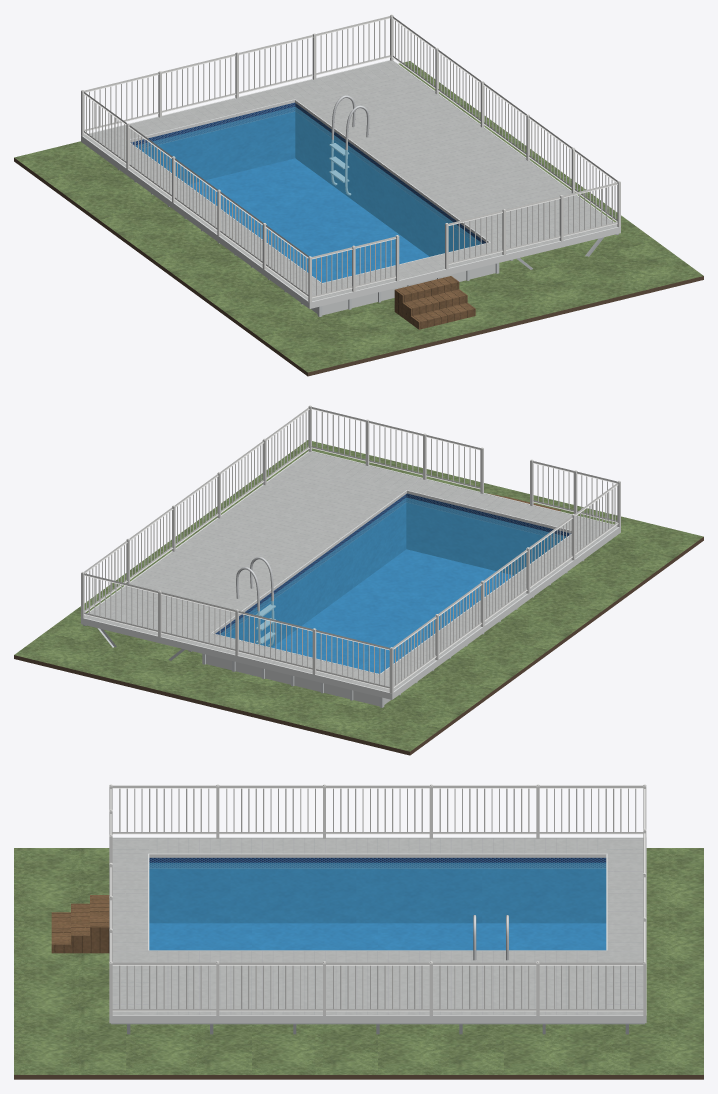
File: kayak-pool-12x24-white-side-rec-fence.dd6c0c929a.glb
3 renders of one model, top to bottom at view 1: azimuth 30°, elevation 25°; view 2: azimuth 150°, elevation 25°; view 3: azimuth 270°, elevation 25°, orthographic. The views are drawn at different scales.
Visible parts, largest first — view 1: ground, deck, water, fence, liner_wall, liner_floor, fascia, soil, steps, wall, steel; view 2: ground, deck, water, fence, liner_wall, liner_floor, fascia, soil, wall, steel; view 3: ground, deck, water, liner_wall, fence, liner_floor, fascia, soil, steps, stud.
Part boxes in pixels (x1,y1,x2,y2): ground: (14, 61, 703, 372); deck: (84, 60, 617, 301); water: (136, 107, 482, 282); fence: (81, 14, 620, 302); liner_wall: (130, 102, 485, 256); liner_floor: (188, 158, 429, 282); fascia: (81, 60, 620, 308); soil: (14, 158, 703, 376); steps: (394, 276, 475, 329); wall: (311, 264, 495, 315); steel: (329, 95, 369, 195); ground: (14, 440, 703, 751); deck: (84, 451, 617, 692); water: (219, 497, 565, 673); fence: (81, 405, 620, 693); liner_wall: (215, 493, 571, 647); liner_floor: (272, 549, 513, 673); fascia: (81, 451, 620, 699); soil: (14, 537, 703, 755); wall: (206, 654, 390, 706); steel: (236, 557, 275, 646); ground: (14, 848, 703, 1074); deck: (112, 838, 643, 1014); water: (149, 862, 606, 950); liner_wall: (149, 857, 606, 923); fence: (109, 784, 646, 1015); liner_floor: (149, 923, 606, 950); fascia: (109, 837, 646, 1023); soil: (14, 1075, 703, 1079); steps: (51, 895, 109, 953); stud: (111, 1023, 644, 1034).
Size of the model in its own units: 8.53 by 2.15 by 10.97.
Materials: 13 (5 with a texture image).
